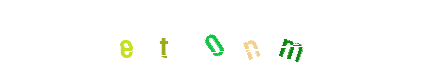0: (186, 0, 266, 80)
E: (99, 0, 179, 80)
M: (251, 0, 331, 80)
N: (190, 0, 270, 80)
T: (182, 0, 262, 80)
